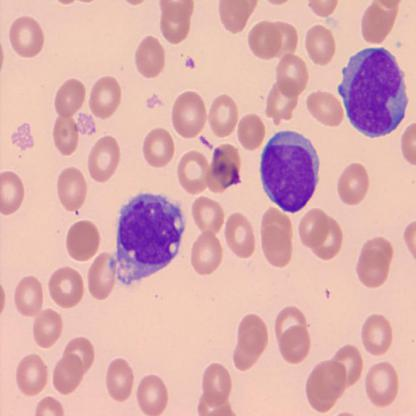Blast: (109, 191, 187, 288), (336, 46, 409, 139), (259, 128, 321, 216)
